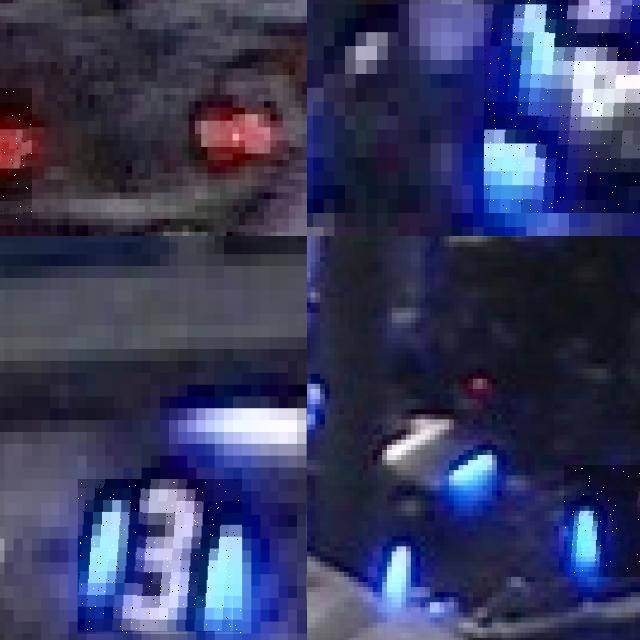B1: (363, 399, 492, 496), (563, 465, 640, 576)
B3: (78, 479, 242, 634)
B4: (483, 0, 640, 212)
